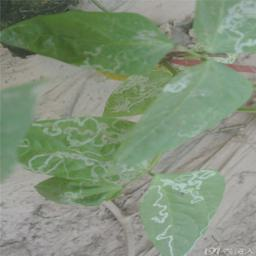liriomyza: (15, 117, 144, 184), (149, 169, 217, 224), (103, 73, 163, 116), (217, 1, 256, 52), (79, 43, 136, 73), (134, 26, 172, 48), (163, 69, 192, 93), (153, 224, 174, 256), (58, 189, 85, 205)
